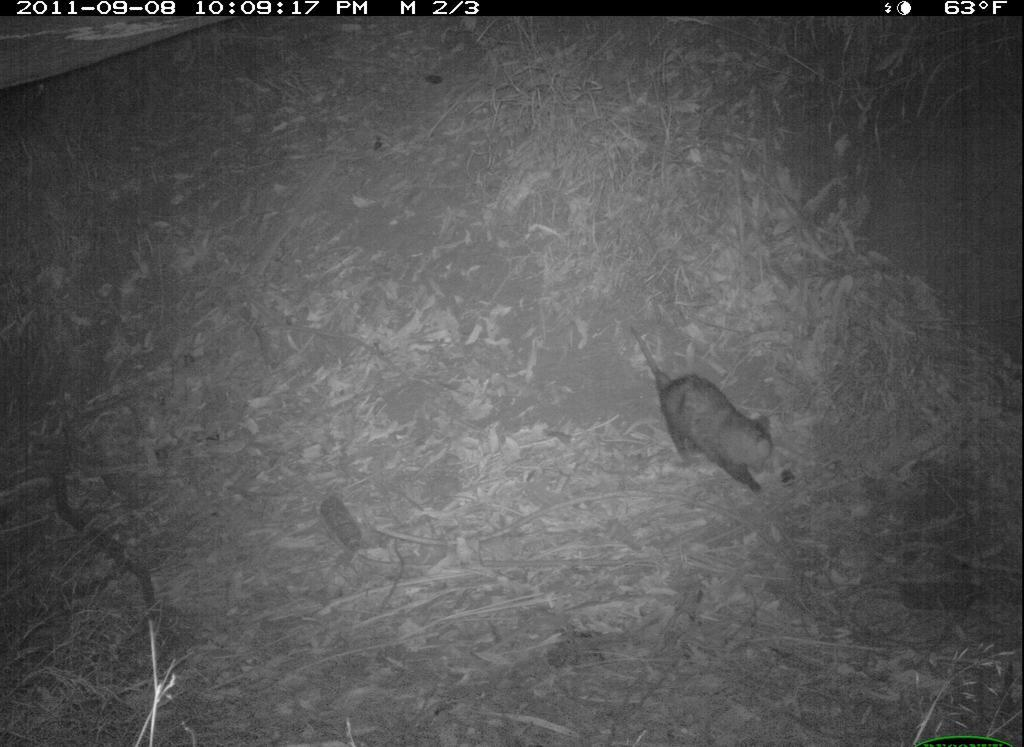opossum: (629, 321, 776, 500)
